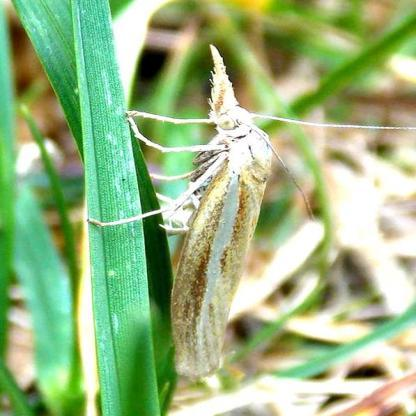stem-borer: (82, 42, 414, 379)
